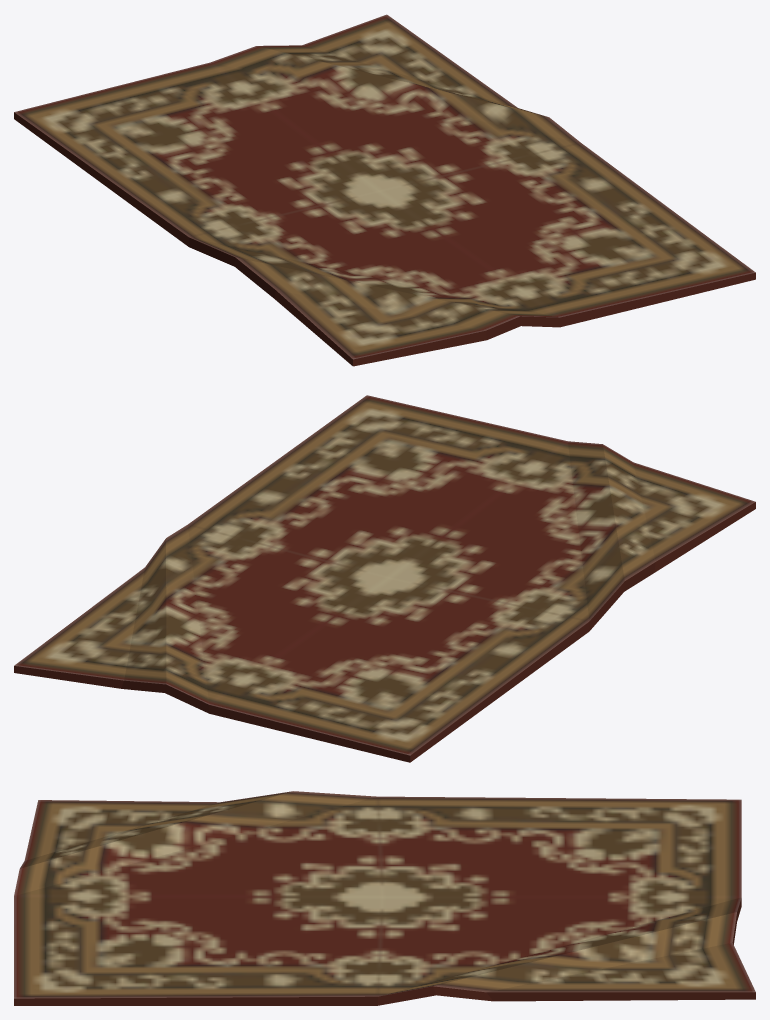
The model's file is SM_Prop_Rug_27.glb.
The picture shows the model from 3 angles, top to bottom: view 1: azimuth 30°, elevation 25°; view 2: azimuth 150°, elevation 25°; view 3: azimuth 270°, elevation 25°; orthographic projection. The views are drawn at different scales.
Parts seen in each view (by area): view 1: SM_Prop_Rug_27; view 2: SM_Prop_Rug_27; view 3: SM_Prop_Rug_27.
Part boxes in pixels (x1,y1,x2,y2): SM_Prop_Rug_27: (14,14,755,366); SM_Prop_Rug_27: (14,395,755,762); SM_Prop_Rug_27: (14,791,755,1005).
Bounding box in the file's own units: 1.97 × 0.0908 × 3.1.
1 material, 1 textured.
